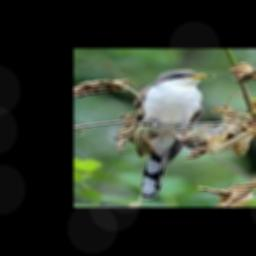Cuckoo: (135, 69, 216, 200)
